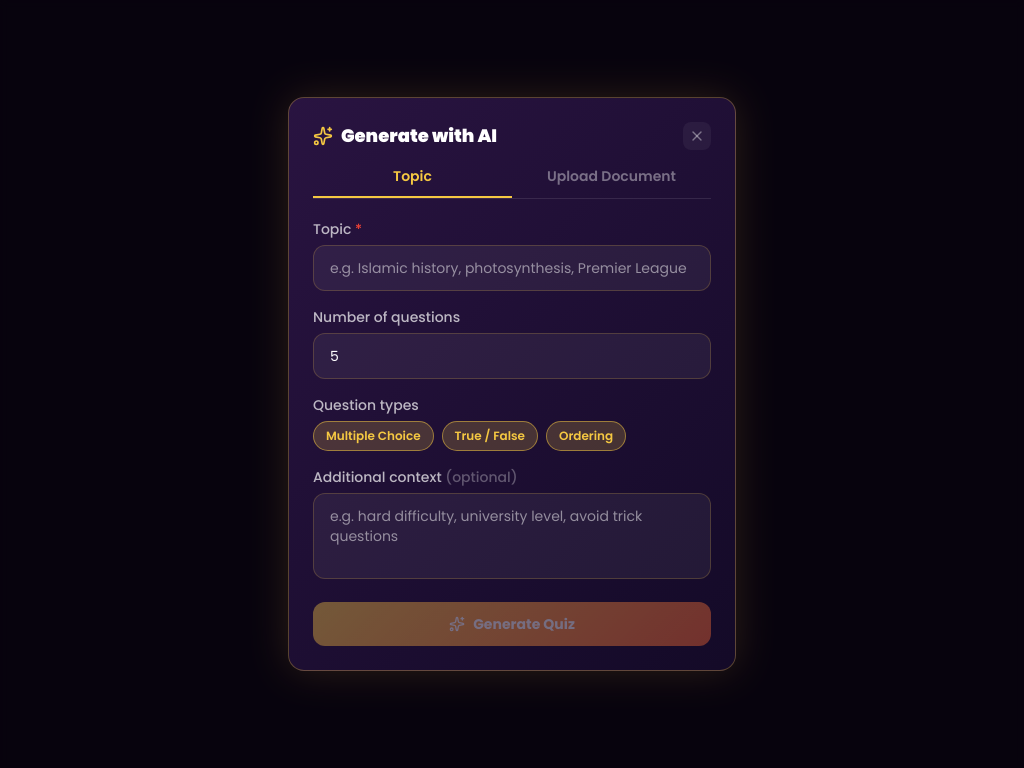
Test case: GenerateQuizModal › shows inline error when question count exceeds limit
The image size is (1024, 768).
Replace the text in the field with test id "count-input" with "25": (512, 356) [313,333,711,379]
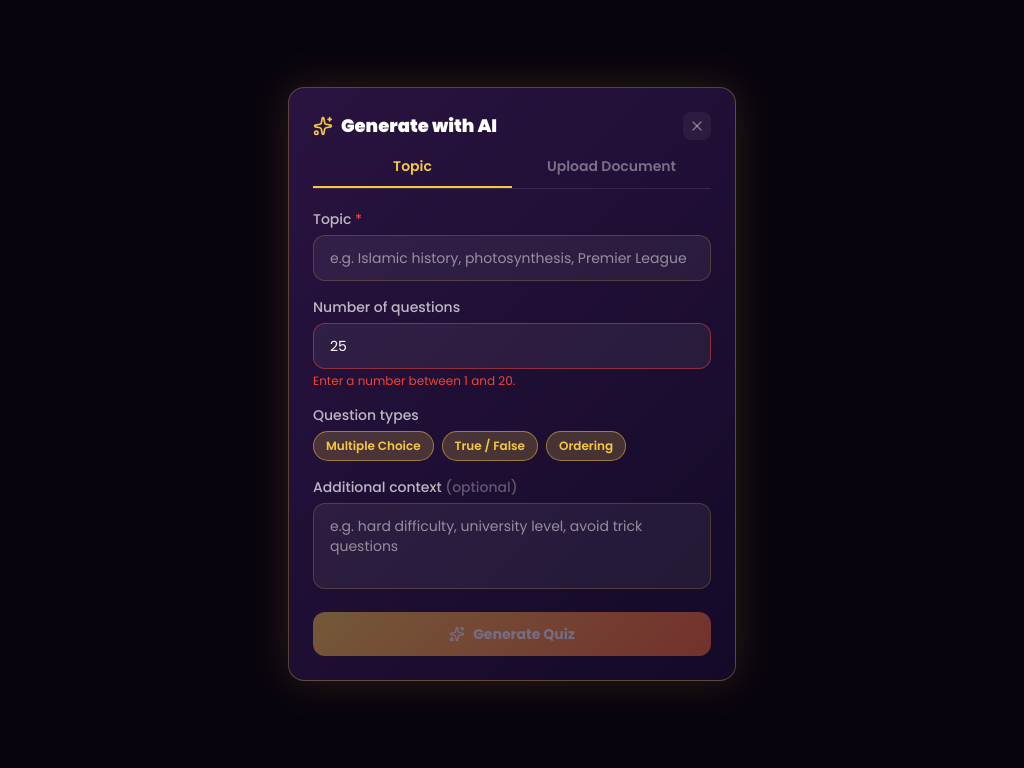
Now the text "Enter a number between 1 and 20." is shown, box [313,372,515,389]
